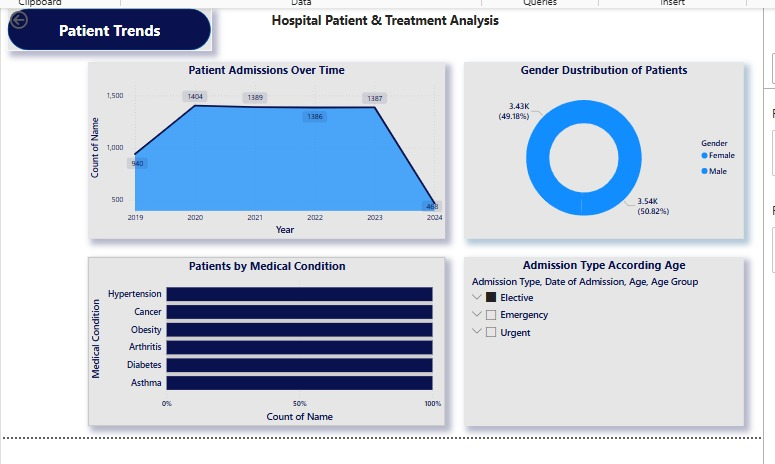

The page's visual inventory and layout, read from the dashboard file:
{"tool":"powerbi","page":{"name":"Patient Trends","canvas":[1280,720],"ordinal":0},"visuals":[{"type":"textbox","box":[10.1,0,1269.9,60.5],"z":0},{"type":"lineChart","title":"Patient Admissions Over Time","fields":{"Category":["healthcare data.Date of Admission.Variation.Date Hierarchy.Year","healthcare data.Date of Admission.Variation.Date Hierarchy.Month"],"Y":["healthcare data.Name"]},"box":[146.1,90.7,599.7,297.3],"z":1000},{"type":"shape","box":[10.1,0,344.4,72.2],"z":2000},{"type":"hundredPercentStackedBarChart","title":"Patients by Medical Condition","fields":{"Category":["healthcare data.Medical Condition"],"Y":["healthcare data.Name"]},"box":[146.1,418.3,599.7,283.9],"z":3000},{"type":"donutChart","title":"Gender Dustribution of Patients","fields":{"Category":["healthcare data.Gender"],"Y":["healthcare data.Name"]},"box":[777.7,90.7,470.3,297.3],"z":4000},{"type":"slicer","title":"Admission Type According Age","fields":{"Values":["healthcare data.Admission Type","healthcare data.Date of Admission","healthcare data.Age","healthcare data.Age Group"]},"box":[778,418,470,284],"z":5000},{"type":"actionButton","box":[10.1,0,48.7,40.3],"z":6000}]}

Visuals, with their boxes on the page's 1280x720 design canvas (x1, y1, x2, y2). These are canvas units, not pixel positions in the 775x464 screenshot, which may show the page scaled, cropped or inside an application window:
textbox: <box>10,0,1280,60</box>
"Patient Admissions Over Time" lineChart: <box>146,91,746,388</box>
shape: <box>10,0,354,72</box>
"Patients by Medical Condition" hundredPercentStackedBarChart: <box>146,418,746,702</box>
"Gender Dustribution of Patients" donutChart: <box>778,91,1248,388</box>
"Admission Type According Age" slicer: <box>778,418,1248,702</box>
actionButton: <box>10,0,59,40</box>
